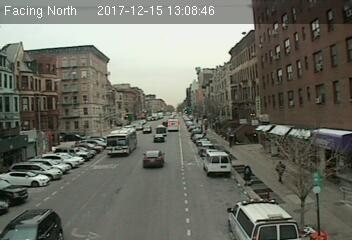bus: (106, 128, 139, 156)
car: (1, 203, 62, 240), (141, 151, 165, 166), (154, 134, 165, 142), (142, 126, 151, 133)
pedestrian: (274, 158, 286, 186)
police: (225, 197, 301, 240)
truck: (205, 152, 231, 176), (167, 118, 179, 131)
